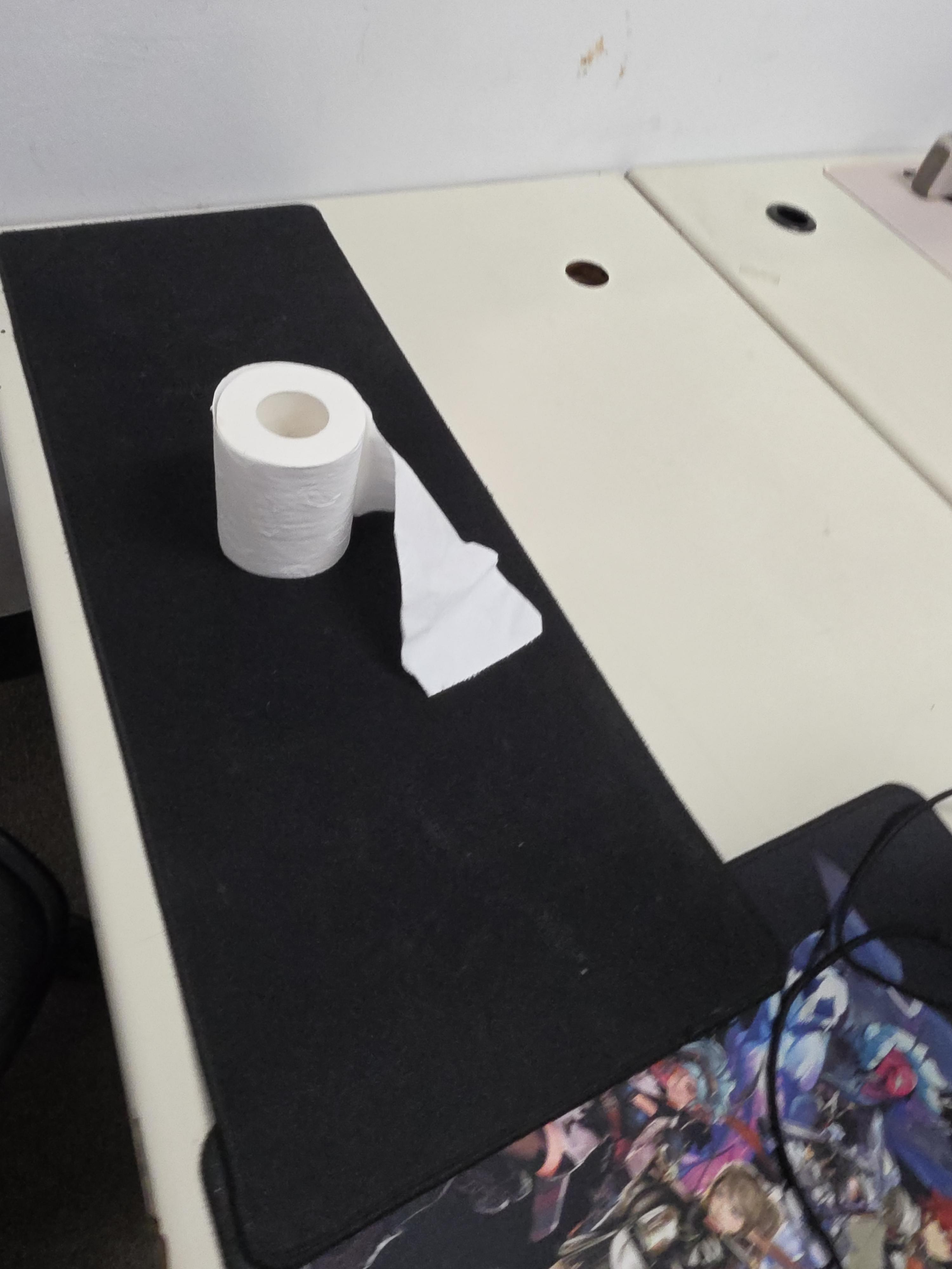tissue: (209, 361, 544, 698)
